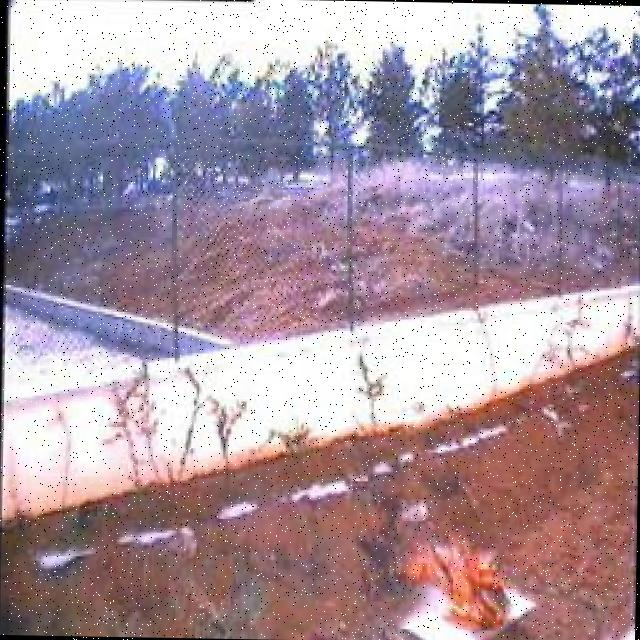fire: (393, 498, 505, 630)
